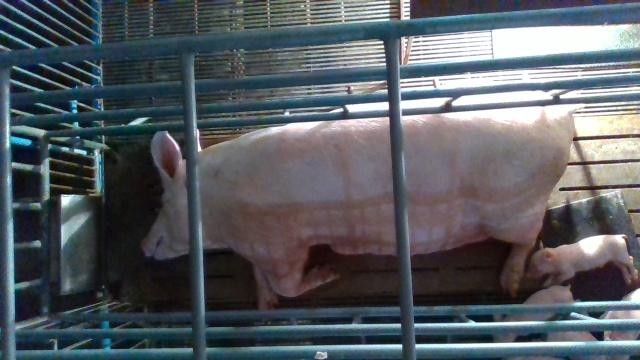piglet: (492, 282, 589, 343), (525, 235, 640, 286), (600, 288, 640, 360)
sow-sleep: (142, 90, 594, 308)
